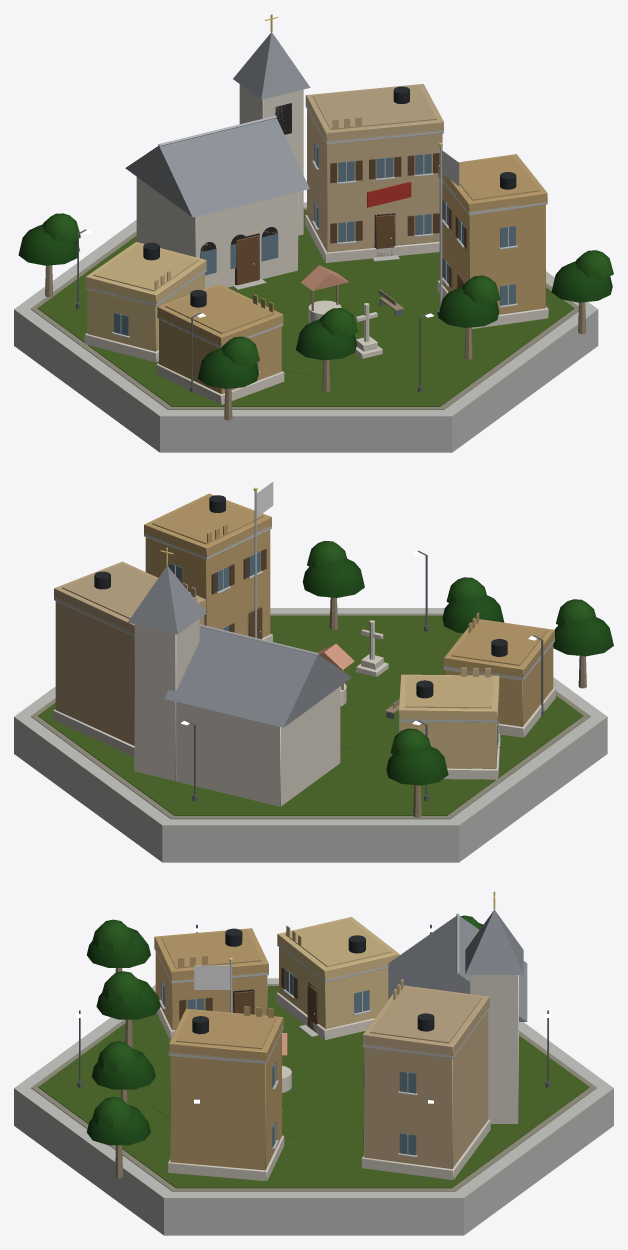
Rendered from villageCenter_arab.glb.
3 renders of one model, top to bottom at view 1: azimuth 30°, elevation 25°; view 2: azimuth 150°, elevation 25°; view 3: azimuth 270°, elevation 25°, orthographic. The views are drawn at different scales.
Visible parts, largest first — view 1: plaster, wall_concrete, turf, stone, roof_slate, leaf, wood, glass, pavers, paint, dark, metal (+2 smaller); view 2: plaster, wall_concrete, turf, stone, roof_slate, leaf, pavers, wood, paint, steel_dark, metal, glass (+1 smaller); view 3: plaster, wall_concrete, turf, stone, leaf, roof_slate, pavers, wood, glass, paint, banner.
Part boxes in pixels (x1,y1,x2,y2): plaster: [85, 84, 547, 393]; wall_concrete: [14, 104, 598, 452]; turf: [37, 209, 574, 406]; stone: [84, 84, 548, 404]; roof_slate: [125, 32, 310, 217]; leaf: [18, 213, 613, 388]; wood: [45, 153, 585, 420]; glass: [114, 141, 515, 368]; pavers: [31, 207, 578, 409]; paint: [143, 86, 516, 307]; dark: [200, 103, 395, 284]; metal: [158, 115, 442, 307]; plaster: [54, 493, 554, 768]; wall_concrete: [14, 525, 607, 862]; turf: [38, 615, 583, 815]; stone: [53, 619, 555, 806]; roof_slate: [128, 566, 351, 727]; leaf: [302, 541, 613, 785]; pavers: [31, 613, 590, 819]; wood: [211, 549, 586, 817]; paint: [94, 495, 507, 698]; steel_dark: [186, 550, 544, 801]; metal: [199, 491, 318, 655]; glass: [169, 551, 498, 745]; plaster: [154, 917, 489, 1170]; wall_concrete: [14, 942, 613, 1235]; turf: [38, 986, 589, 1188]; stone: [156, 975, 518, 1181]; leaf: [86, 915, 483, 1145]; roof_slate: [388, 910, 527, 1021]; pavers: [31, 984, 596, 1191]; wood: [115, 967, 363, 1178]; glass: [161, 970, 416, 1155]; paint: [192, 928, 434, 1034]; banner: [194, 965, 230, 989].
Bounding box in the file's own units: 21.3 × 11.8 × 24.6.
